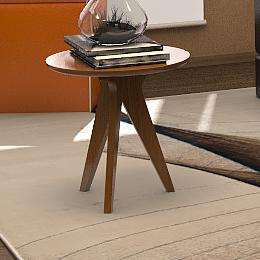table: (44, 46, 195, 206)
